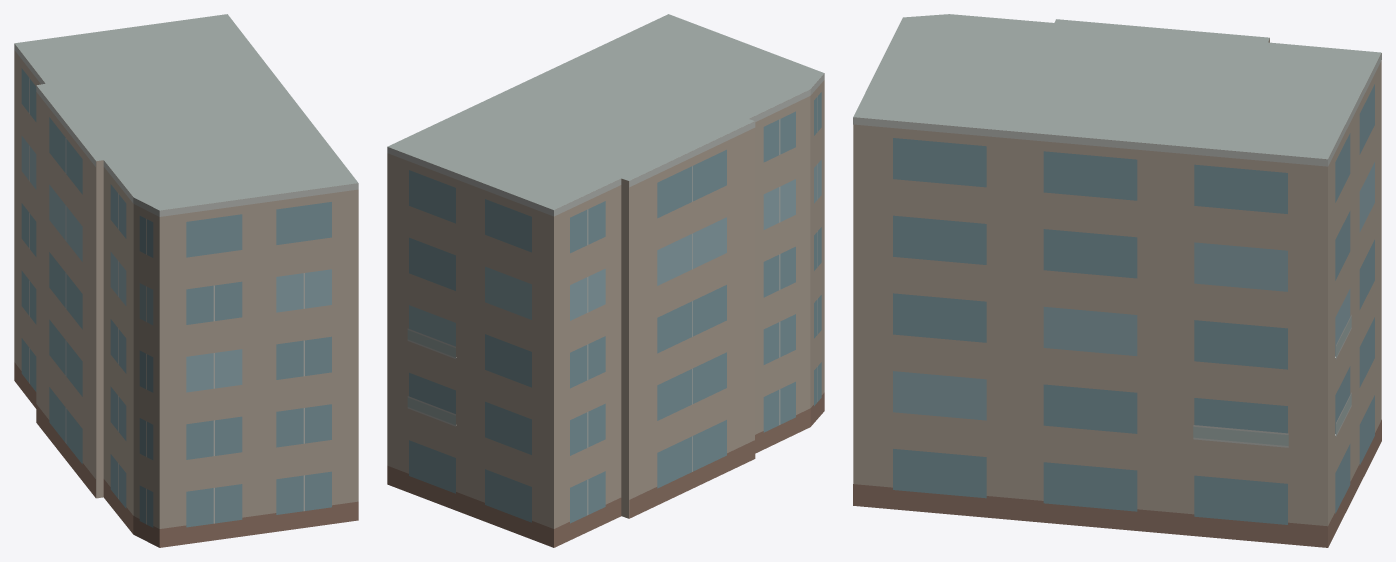
Rendered from survey-upis-32585560.glb.
3 renders of one model, left to right at view 1: azimuth 30°, elevation 25°; view 2: azimuth 150°, elevation 25°; view 3: azimuth 270°, elevation 25°, orthographic. The views are drawn at different scales.
Parts seen in each view (by area): view 1: survey-upis-32585560.tmp; view 2: survey-upis-32585560.tmp; view 3: survey-upis-32585560.tmp.
Boxes of the visible parts, x1,y1,x2,y2 form: survey-upis-32585560.tmp: [14, 14, 358, 547]; survey-upis-32585560.tmp: [387, 14, 824, 547]; survey-upis-32585560.tmp: [853, 14, 1381, 547].
Bounding box in the file's own units: 10.35 × 12.9 × 15.92.
